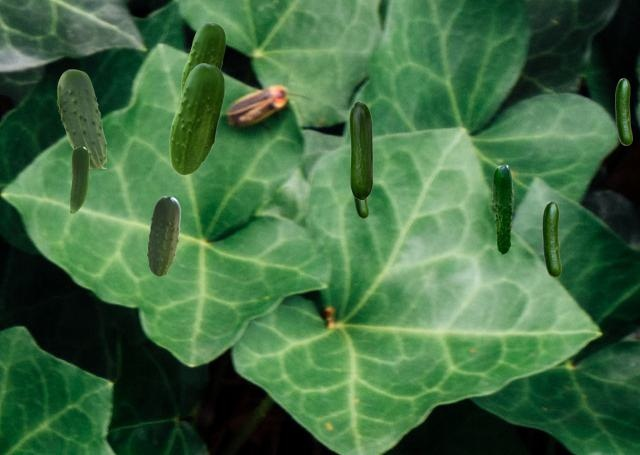cucumber: (169, 63, 223, 174), (57, 69, 105, 167), (181, 22, 224, 93), (147, 196, 179, 275), (349, 101, 372, 199), (492, 164, 513, 253), (542, 201, 560, 276), (70, 146, 88, 212), (615, 78, 631, 144), (353, 197, 367, 217)
